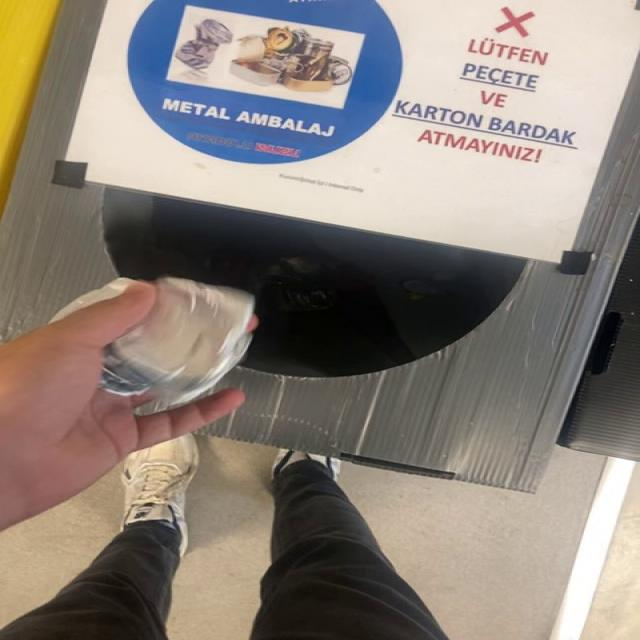metal: (100, 277, 255, 416), (49, 278, 133, 324)
